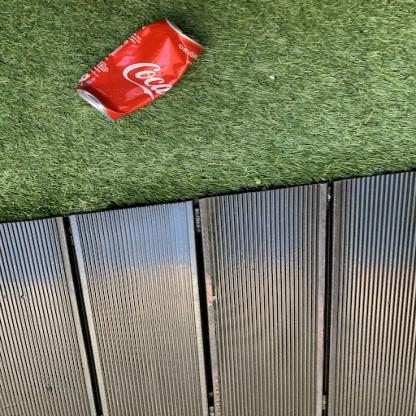trash: (69, 16, 206, 125)
